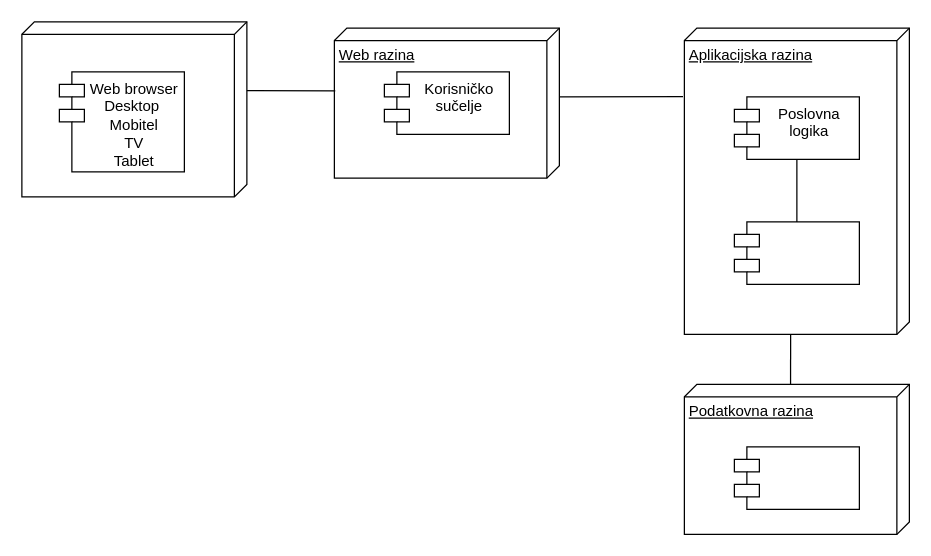
This 931x556 diagram has some shape labels left out. Here are the shapes that lost their labels. From the top down, the box of each, then its label:
(21, 21, 247, 197): Klijentska razina
(733, 221, 859, 284): Pristup podacima
(733, 446, 859, 509): SQL baza podataka
